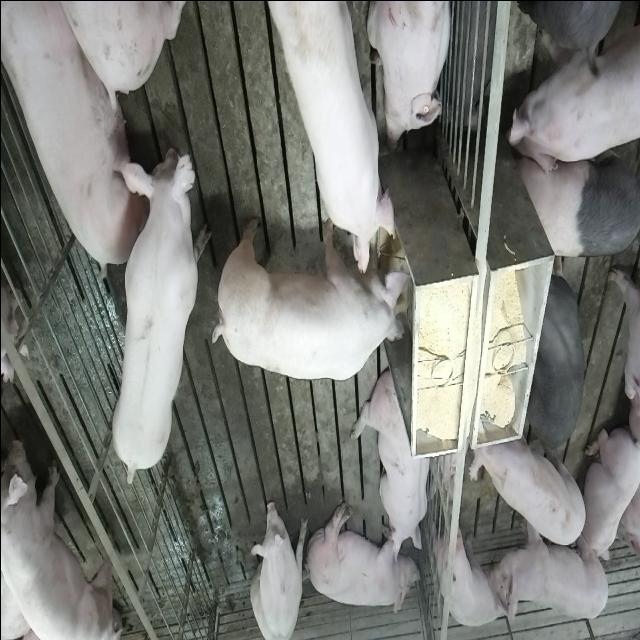Feeding: (267, 0, 400, 272), (208, 211, 410, 379)
Lateral_lying: (302, 500, 418, 618)
Sitting: (250, 494, 306, 640)
Standing: (106, 142, 207, 488), (505, 1, 639, 177), (0, 435, 115, 640), (471, 422, 588, 548), (516, 140, 638, 256), (492, 512, 610, 620), (526, 267, 586, 453), (436, 510, 516, 624)
Sternal_lying: (353, 366, 433, 560), (368, 0, 455, 148), (580, 424, 640, 570)
